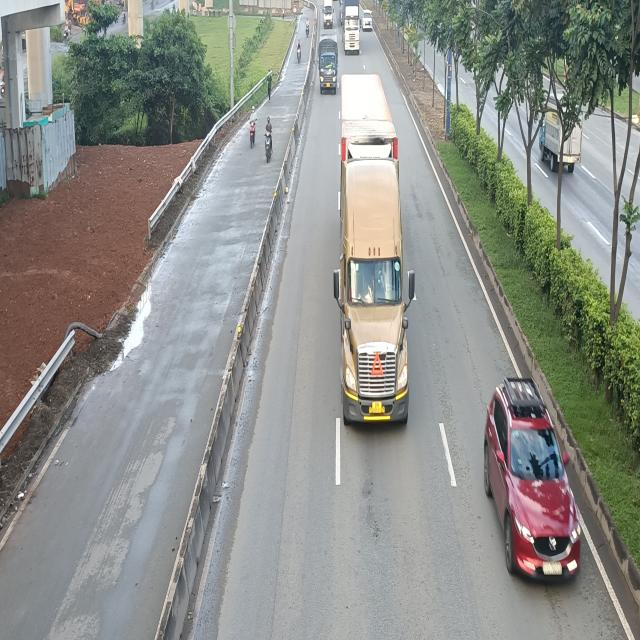car: (484, 376, 586, 579)
container: (336, 75, 420, 430), (342, 0, 362, 53)
truck: (317, 30, 338, 91)
